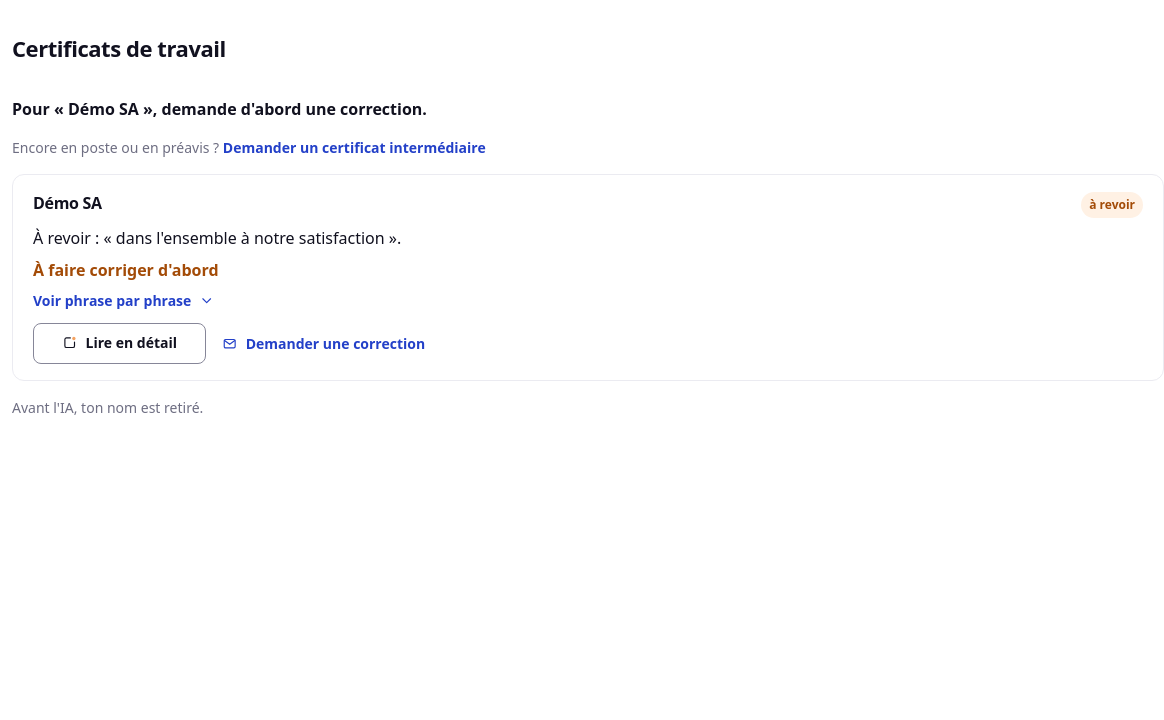
Certificats de travail › la note, le conseil, le détail, puis la lecture de l'IA
This screenshot has width=1164, height=720.
Expected: the text with test id "certificates-summary" shows "demande d'abord une correction", 12,98 -> 427,120
Expected: the text with test id "certificate-grade" reads "à revoir", 1089,196 -> 1135,213
Click the button with test id "certificate-details-2" at (112, 300), box 33,290 -> 1143,311
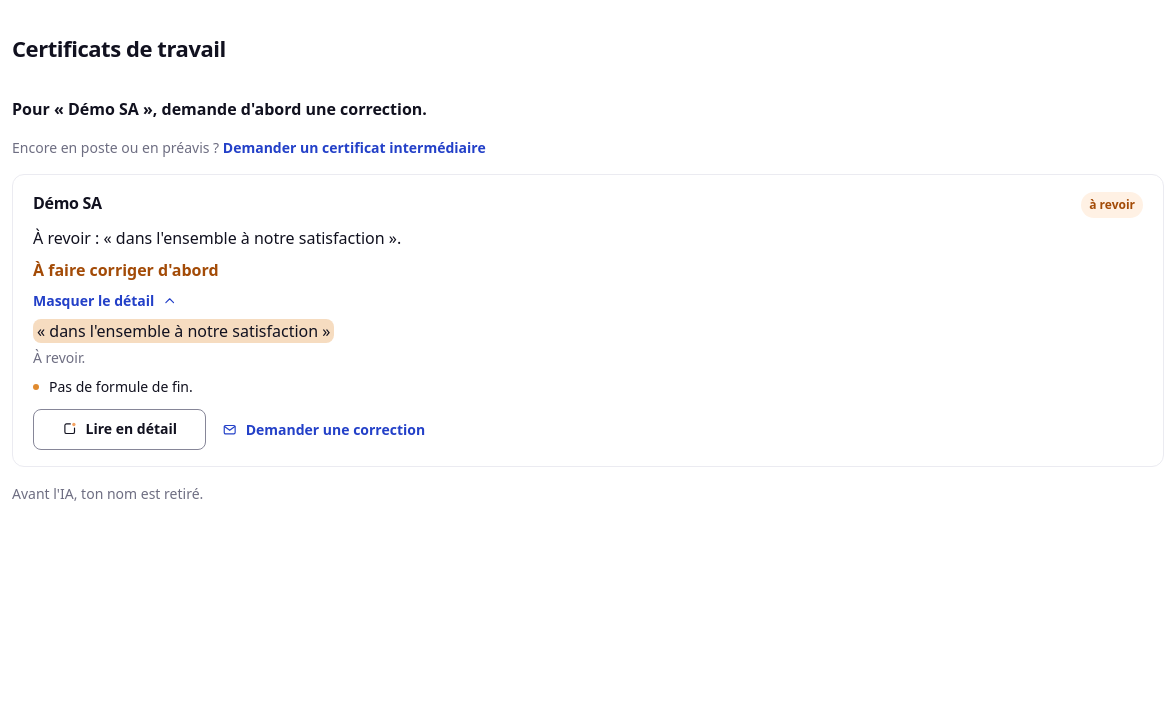
Expected: the list with class "certificate-passages" shows "« dans l'ensemble à notre satisfaction »", 37,320 -> 330,342
Expected: the list with class "certificate-notes" reads "Pas de formule de fin.", 49,377 -> 193,396
Click the button with test id "certificate-read-2" at (120, 430), box 33,409 -> 206,450
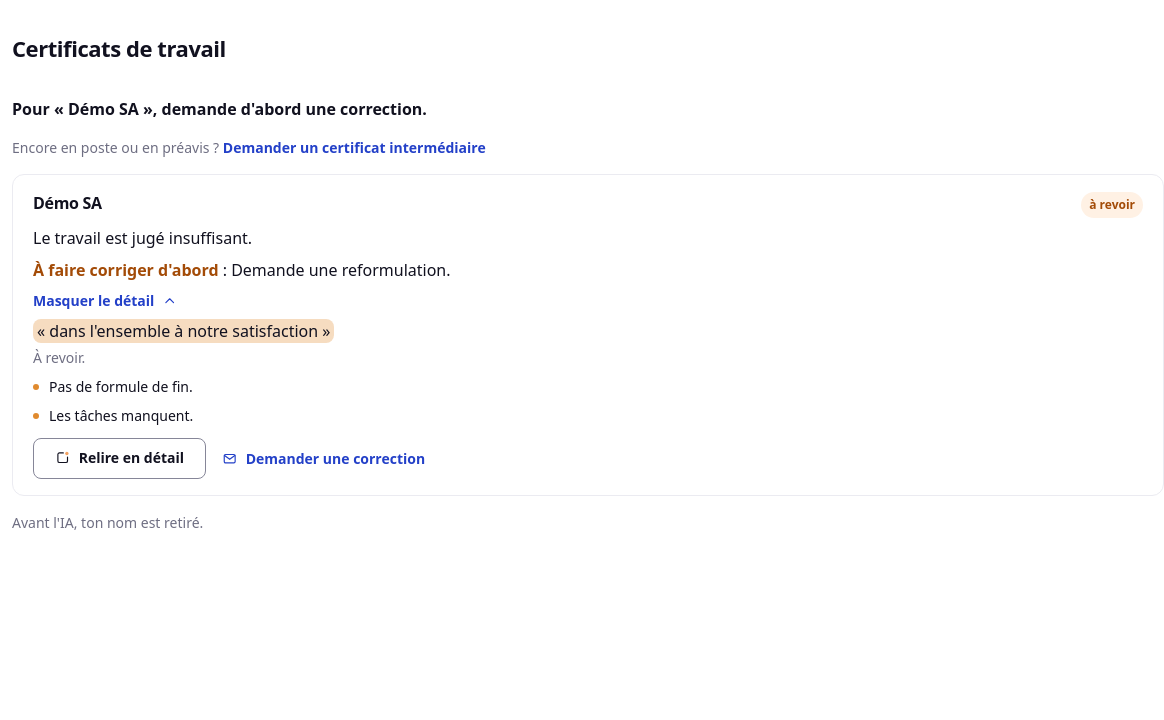
Expected: the element with test id "certificate-advice" shows "Demande une reformulation.", 219,259 -> 450,281
Expected: the list with class "certificate-notes" shows "Les tâches manquent.", 49,406 -> 193,425
Expected: the element with class "busy-label" reads "Relire en détail", 79,448 -> 184,467
